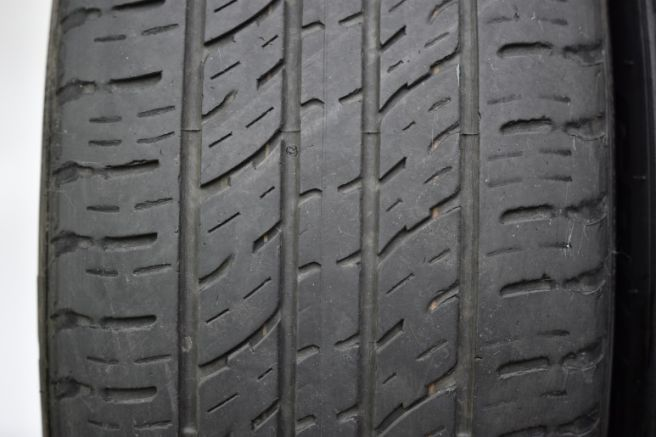middle_condition: (65, 1, 614, 426)
